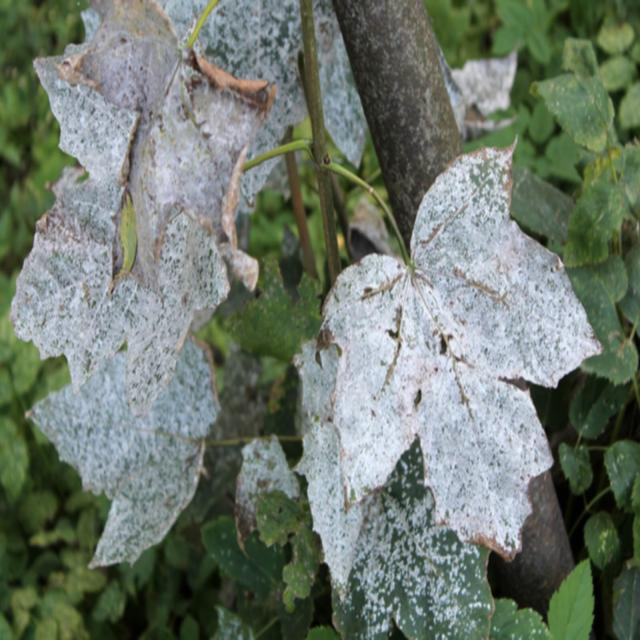Powdery Mildew: (293, 136, 603, 634), (25, 327, 221, 570), (159, 0, 368, 208)
